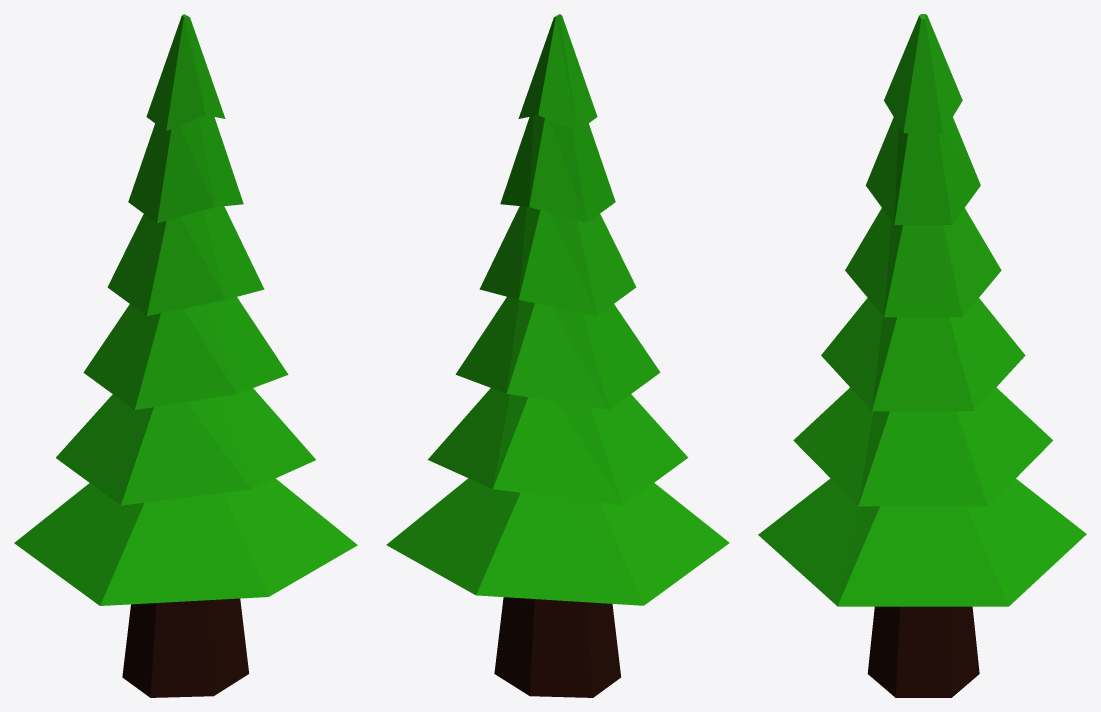
File: Tree2.obj
3 views of the same model, side by side, from view 1: azimuth 30°, elevation 25°; view 2: azimuth 150°, elevation 25°; view 3: azimuth 270°, elevation 25° (orthographic).
Parts seen in each view (by area): view 1: Cylinder, Cylinder.001; view 2: Cylinder, Cylinder.001; view 3: Cylinder, Cylinder.001.
Part boxes in pixels (left/top/right/bottom): Cylinder: left=14, top=14, right=357, bottom=605; Cylinder.001: left=122, top=598, right=249, bottom=697; Cylinder: left=386, top=14, right=729, bottom=605; Cylinder.001: left=494, top=597, right=621, bottom=697; Cylinder: left=758, top=14, right=1086, bottom=606; Cylinder.001: left=867, top=606, right=979, bottom=697.
Bounding box in the file's own units: 4.3 × 10.51 × 4.76.
